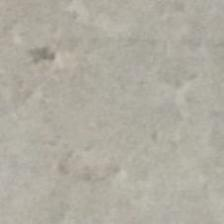Non_Crack: (17, 31, 203, 186)
